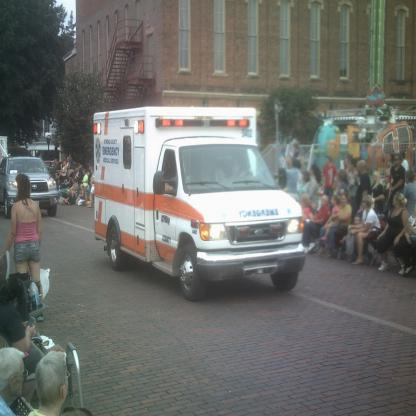Ambulance: (93, 106, 305, 301)
Car: (0, 155, 59, 219)
